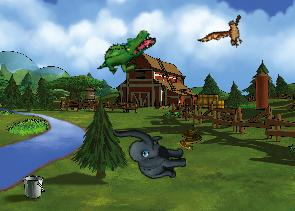crocodile: (95, 18, 158, 87)
eagle: (197, 4, 255, 63)
elephant: (112, 120, 188, 184)
